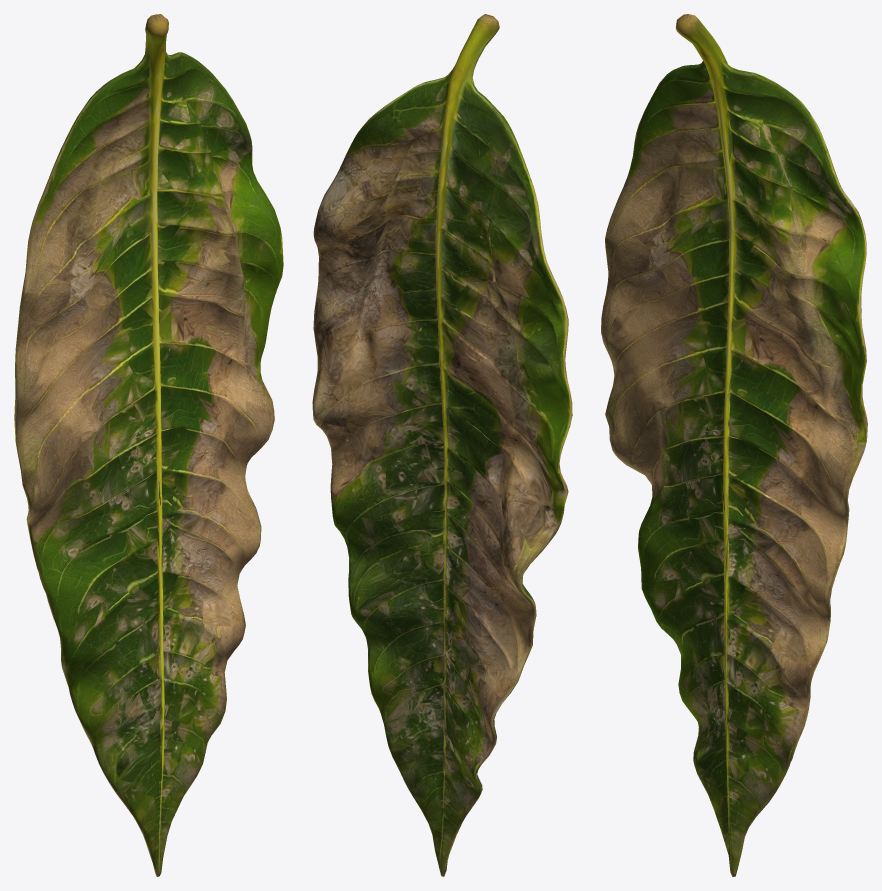
Rendered from mango_die_back.glb.
3 renders of one model, left to right at view 1: azimuth 30°, elevation 25°; view 2: azimuth 150°, elevation 25°; view 3: azimuth 330°, elevation 25°, orthographic. The views are drawn at different scales.
Visible parts, largest first — view 1: mango_die_back; view 2: mango_die_back; view 3: mango_die_back.
Part boxes in pixels (x1,y1,x2,y2): mango_die_back: (14,14,283,876); mango_die_back: (312,14,572,876); mango_die_back: (601,14,867,876).
Bounding box in the file's own units: 0.3152 × 1 × 0.1103.
1 material, 1 textured.
